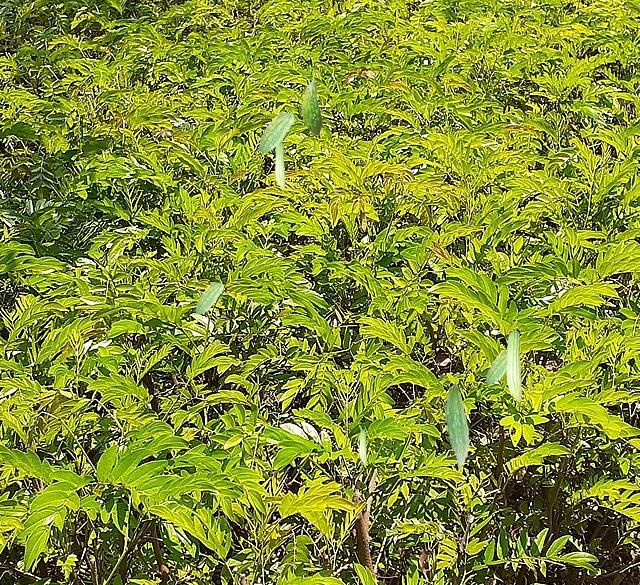ampalaya: (444, 381, 470, 469), (258, 111, 294, 153), (300, 72, 323, 136), (506, 327, 521, 402), (195, 281, 223, 314), (485, 349, 506, 384), (274, 140, 285, 190), (359, 428, 367, 465)
